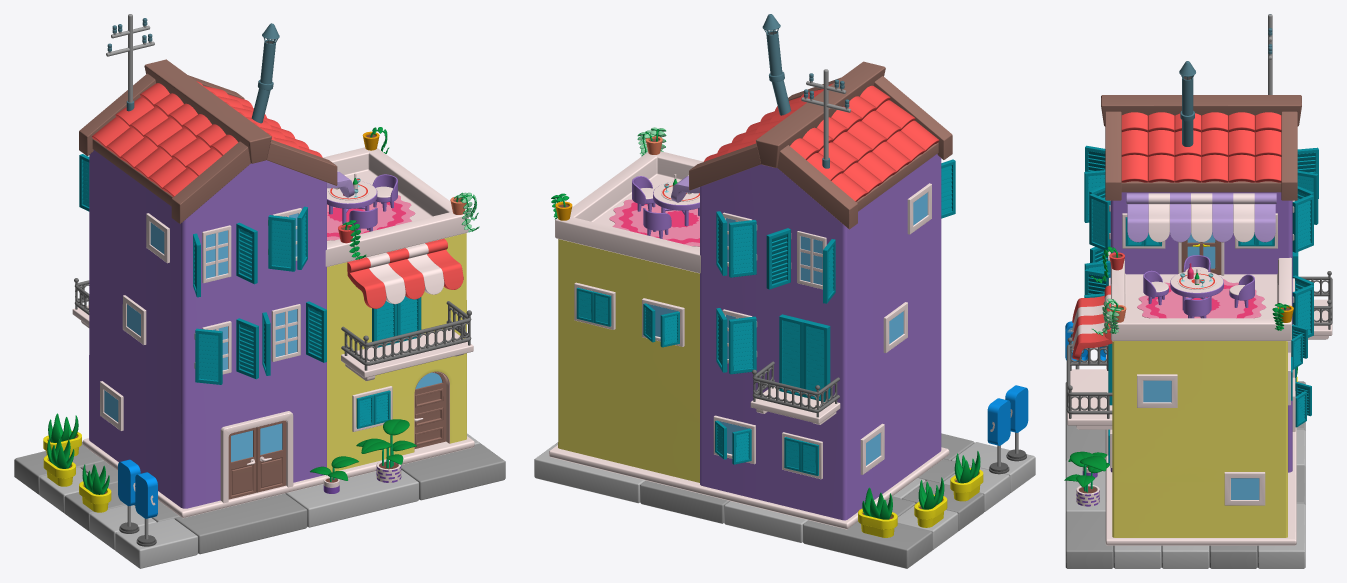
Rendered from City_Island_16.glb.
3 renders of one model, left to right at view 1: azimuth 30°, elevation 25°; view 2: azimuth 150°, elevation 25°; view 3: azimuth 270°, elevation 25°, orthographic. The views are drawn at different scales.
Parts seen in each view (by area): view 1: City_16_House_1, City_16_Base_1, City_16_Plant_5, City_16_Carpet_1, City_16_Chimney_1, City_16_Telephone_Booth_1, City_16_Plant_7, City_16_Plant_8, City_16_Antenna_1, City_16_Telephone_Booth_2, City_16_Plant_4, City_16_Plant_6 (+3 smaller); view 2: City_16_House_1, City_16_Base_1, City_16_Carpet_1, City_16_Plant_4, City_16_Chimney_1, City_16_Telephone_Booth_2, City_16_Antenna_1, City_16_Telephone_Booth_1, City_16_Plant_7, City_16_Plant_8, City_16_Table_1, City_16_Plant_2 (+1 smaller); view 3: City_16_House_1, City_16_Base_1, City_16_Carpet_1, City_16_Plant_5, City_16_Chimney_1, City_16_Table_1, City_16_Plant_2, City_16_Chair_4, City_16_Chair_1, City_16_Chair_3, City_16_Plant_1, City_16_Napkin_1 (+3 smaller).
Boxes of the visible parts, left/top/right/bottom form: City_16_House_1: left=72, top=59, right=474, bottom=518; City_16_Base_1: left=14, top=433, right=505, bottom=568; City_16_Plant_5: left=356, top=419, right=416, bottom=482; City_16_Carpet_1: left=327, top=195, right=415, bottom=240; City_16_Chimney_1: left=251, top=23, right=279, bottom=123; City_16_Telephone_Booth_1: left=135, top=472, right=157, bottom=546; City_16_Plant_7: left=43, top=438, right=75, bottom=486; City_16_Plant_8: left=79, top=464, right=111, bottom=512; City_16_Antenna_1: left=106, top=14, right=154, bottom=111; City_16_Telephone_Booth_2: left=118, top=459, right=140, bottom=533; City_16_Plant_4: left=43, top=413, right=81, bottom=457; City_16_Plant_6: left=310, top=456, right=358, bottom=493; City_16_House_1: left=549, top=61, right=955, bottom=529; City_16_Base_1: left=534, top=433, right=1035, bottom=568; City_16_Carpet_1: left=609, top=199, right=699, bottom=246; City_16_Plant_4: left=858, top=487, right=897, bottom=537; City_16_Chimney_1: left=762, top=14, right=791, bottom=115; City_16_Telephone_Booth_2: left=987, top=398, right=1010, bottom=474; City_16_Antenna_1: left=801, top=69, right=850, bottom=168; City_16_Telephone_Booth_1: left=1005, top=385, right=1028, bottom=461; City_16_Plant_7: left=914, top=477, right=947, bottom=527; City_16_Plant_8: left=950, top=451, right=983, bottom=501; City_16_Table_1: left=653, top=181, right=699, bottom=226; City_16_Plant_2: left=637, top=127, right=666, bottom=156; City_16_House_1: left=1066, top=95, right=1332, bottom=545; City_16_Base_1: left=1065, top=381, right=1305, bottom=568; City_16_Carpet_1: left=1137, top=279, right=1266, bottom=318; City_16_Plant_5: left=1064, top=451, right=1109, bottom=506; City_16_Chimney_1: left=1179, top=61, right=1195, bottom=146; City_16_Table_1: left=1170, top=270, right=1223, bottom=310; City_16_Plant_2: left=1092, top=298, right=1126, bottom=335; City_16_Chair_4: left=1143, top=270, right=1168, bottom=305; City_16_Chair_1: left=1229, top=274, right=1254, bottom=307; City_16_Chair_3: left=1183, top=296, right=1210, bottom=318; City_16_Plant_1: left=1090, top=246, right=1124, bottom=283; City_16_Napkin_1: left=1177, top=273, right=1216, bottom=289.
Bounding box in the file's own units: 12.22 × 14.4 × 8.14.
Materials: 26 (26 with a texture image).
